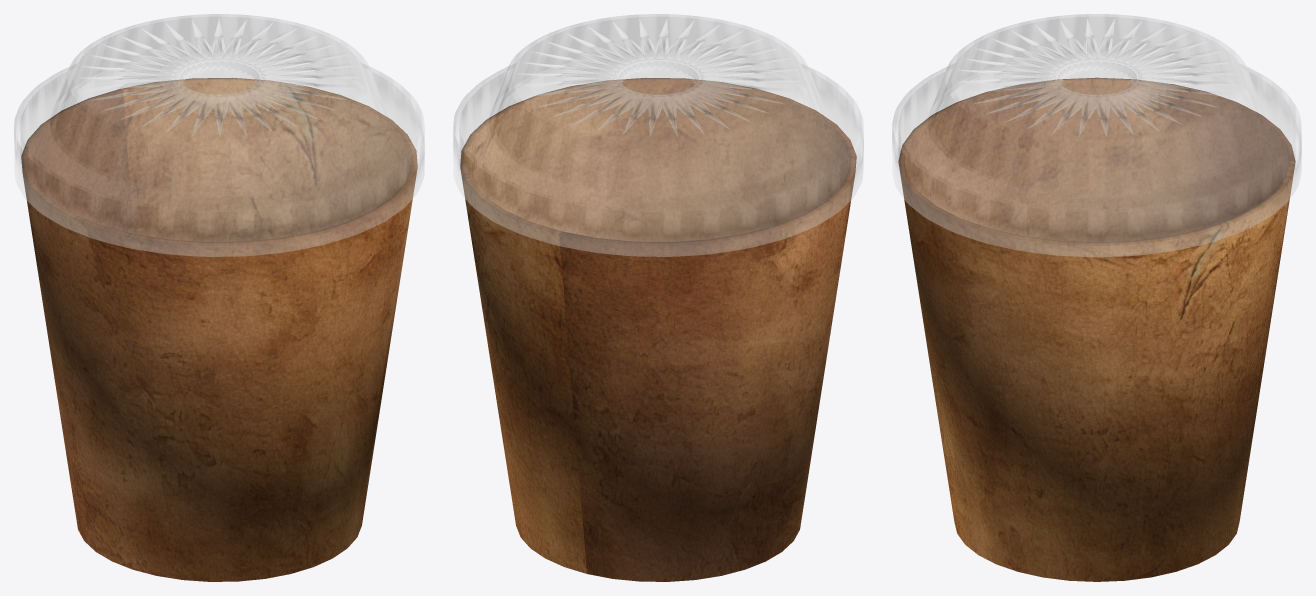
The model's file is CoffeeCup.gltf.
3 views of the same model, side by side, from view 1: azimuth 30°, elevation 25°; view 2: azimuth 150°, elevation 25°; view 3: azimuth 270°, elevation 25° (orthographic).
Visible parts, largest first — view 1: Cylinder, Cylinder.001; view 2: Cylinder, Cylinder.001; view 3: Cylinder, Cylinder.001.
Boxes of the visible parts, left/top/right/bottom form: Cylinder: left=21, top=78, right=417, bottom=581; Cylinder.001: left=14, top=14, right=424, bottom=256; Cylinder: left=460, top=78, right=856, bottom=581; Cylinder.001: left=453, top=14, right=863, bottom=256; Cylinder: left=898, top=77, right=1295, bottom=581; Cylinder.001: left=892, top=14, right=1301, bottom=256.
Size of the model in its own units: 4.47 by 5.34 by 4.46.
Materials: 2 (1 with a texture image).
